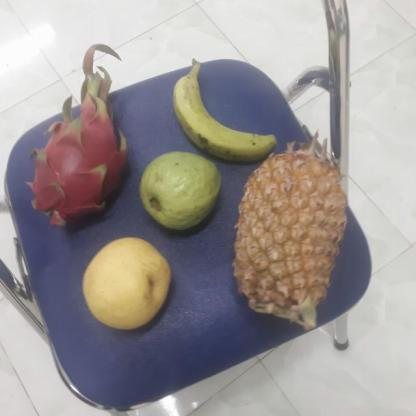banana: (173, 68, 277, 162)
guava: (140, 151, 223, 229)
pear: (82, 238, 176, 331)
pineapple: (235, 143, 354, 331)
pitaya: (32, 108, 132, 228)
